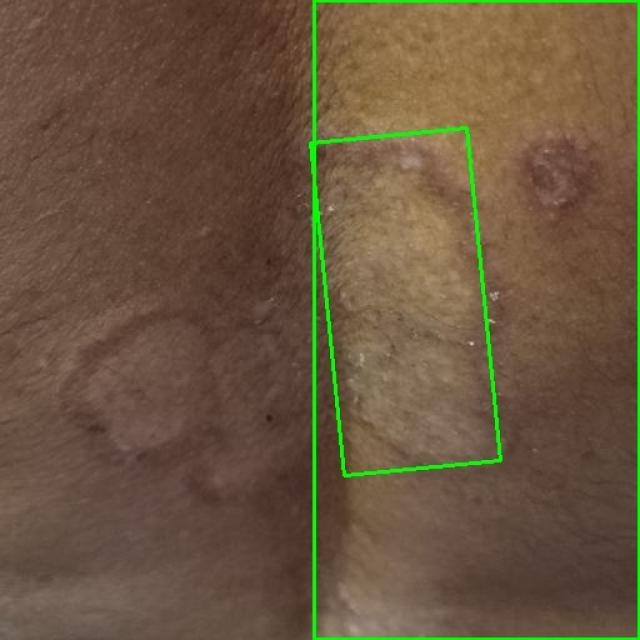Tinea Corporis: (314, 0, 639, 639), (311, 128, 500, 476)
